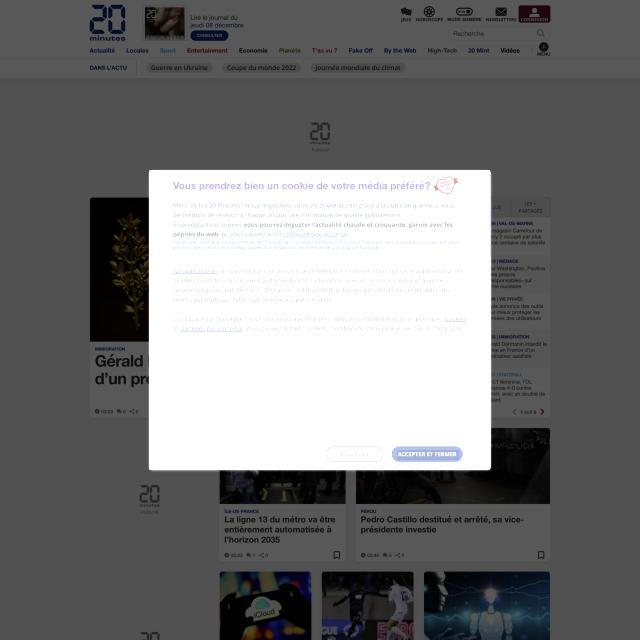CheckBox: (389, 445, 464, 463), (325, 444, 384, 462)
data feed: (397, 450, 459, 460), (340, 449, 370, 459)
header: (149, 170, 490, 470)
image: (173, 176, 433, 192)
